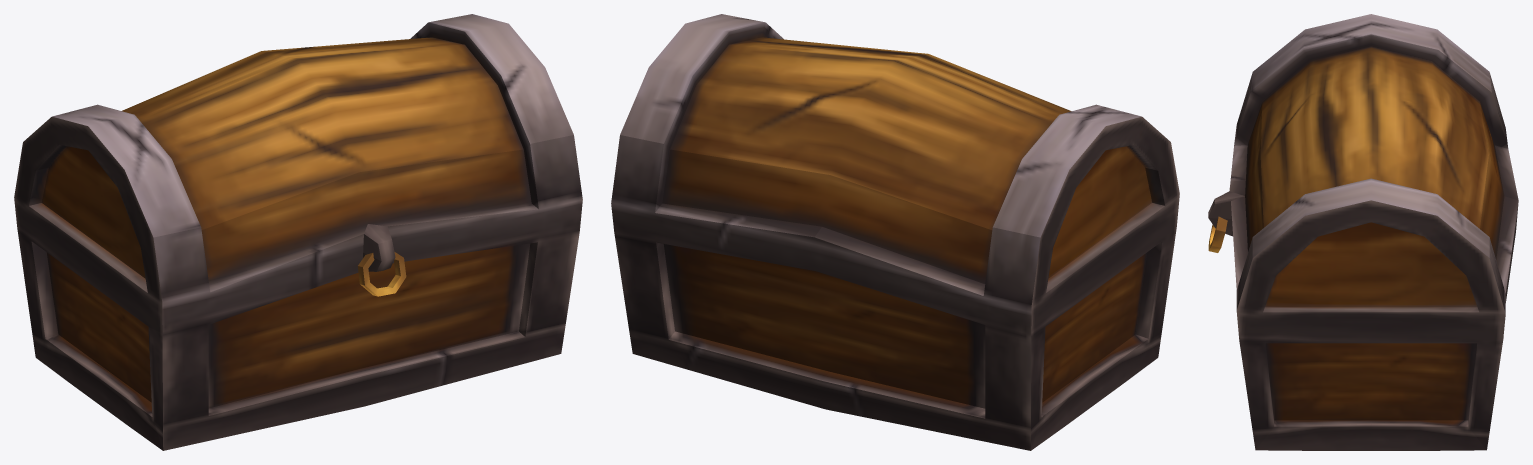
The model's file is cheast_1.fbx.
3 views of the same model, side by side, from view 1: azimuth 30°, elevation 25°; view 2: azimuth 150°, elevation 25°; view 3: azimuth 270°, elevation 25° (orthographic). The views are drawn at different scales.
Parts seen in each view (by area): view 1: cheast_1; view 2: cheast_1; view 3: cheast_1.
Boxes of the visible parts, x1,y1,x2,y2 form: cheast_1: (14,14,582,450); cheast_1: (611,14,1179,450); cheast_1: (1208,14,1518,450).
Bounding box in the file's own units: 1.65 × 1.12 × 1.16.
